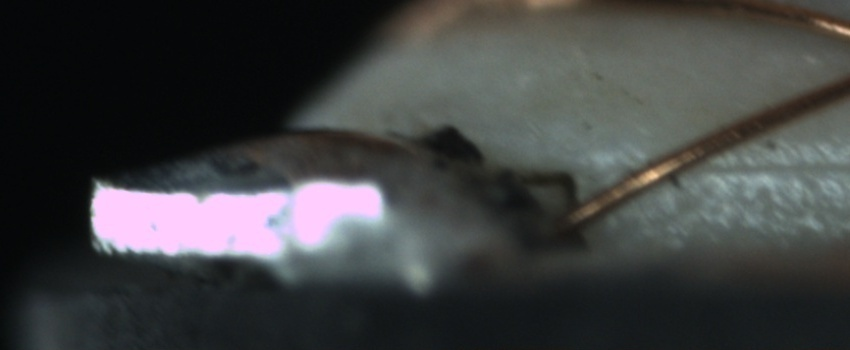DL: (686, 136, 850, 198)
